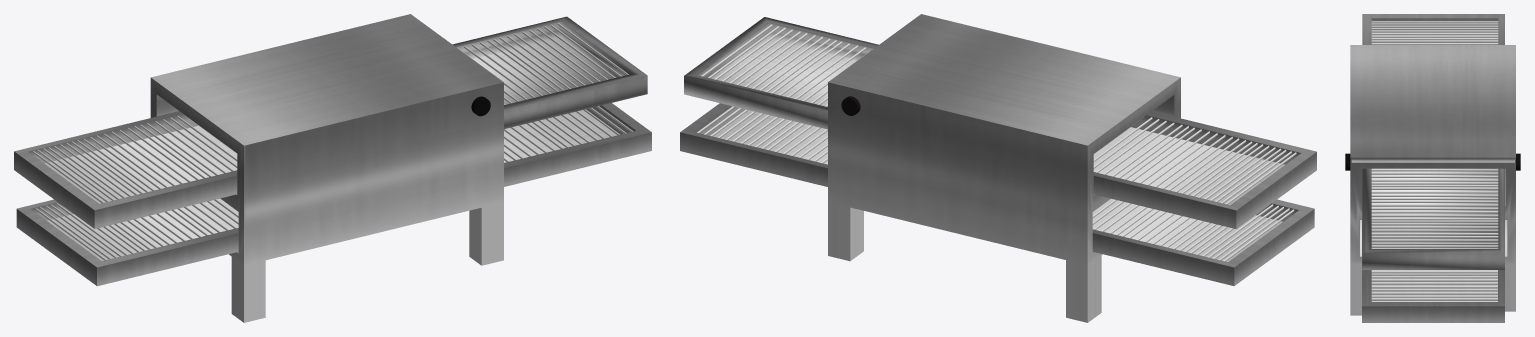
The model's file is oven1.glb.
The picture shows the model from 3 angles, left to right: view 1: azimuth 30°, elevation 25°; view 2: azimuth 150°, elevation 25°; view 3: azimuth 270°, elevation 25°; orthographic projection. The views are drawn at different scales.
Visible parts, largest first — view 1: Cube, Cube.004, Cube.006, Cube.001, Cube.010; view 2: Cube, Cube.004, Cube.006, Cube.001, Cube.010; view 3: Cube, Cube.006, Cube.010, Cube.004, Cylinder.067, Cylinder.112, Cylinder.110, Cylinder.106, Cylinder.104, Cylinder.099, Cylinder.095, Cylinder.092 (+37 smaller).
Part boxes in pixels (box(x1,y1,x2,y2)): Cube: box(150, 14, 503, 322); Cube.004: box(14, 111, 237, 228); Cube.006: box(452, 16, 647, 128); Cube.001: box(16, 198, 238, 286); Cube.010: box(504, 103, 651, 186); Cube: box(828, 14, 1180, 322); Cube.004: box(1093, 111, 1316, 229); Cube.006: box(684, 17, 878, 129); Cube.001: box(1092, 198, 1314, 285); Cube.010: box(680, 103, 827, 186); Cube: box(1350, 45, 1515, 315); Cube.006: box(1362, 168, 1504, 269); Cube.010: box(1362, 220, 1504, 322); Cube.004: box(1362, 14, 1504, 44); Cylinder.067: box(1371, 40, 1498, 42); Cylinder.112: box(1371, 245, 1498, 247); Cylinder.110: box(1371, 239, 1498, 241); Cylinder.106: box(1371, 226, 1498, 228); Cylinder.104: box(1371, 220, 1498, 222); Cylinder.099: box(1371, 204, 1498, 206); Cylinder.095: box(1371, 191, 1498, 193); Cylinder.092: box(1371, 182, 1498, 184).
Bounding box in the file's own units: 16.16 × 4.93 × 4.96.
7 materials, 5 textured.
